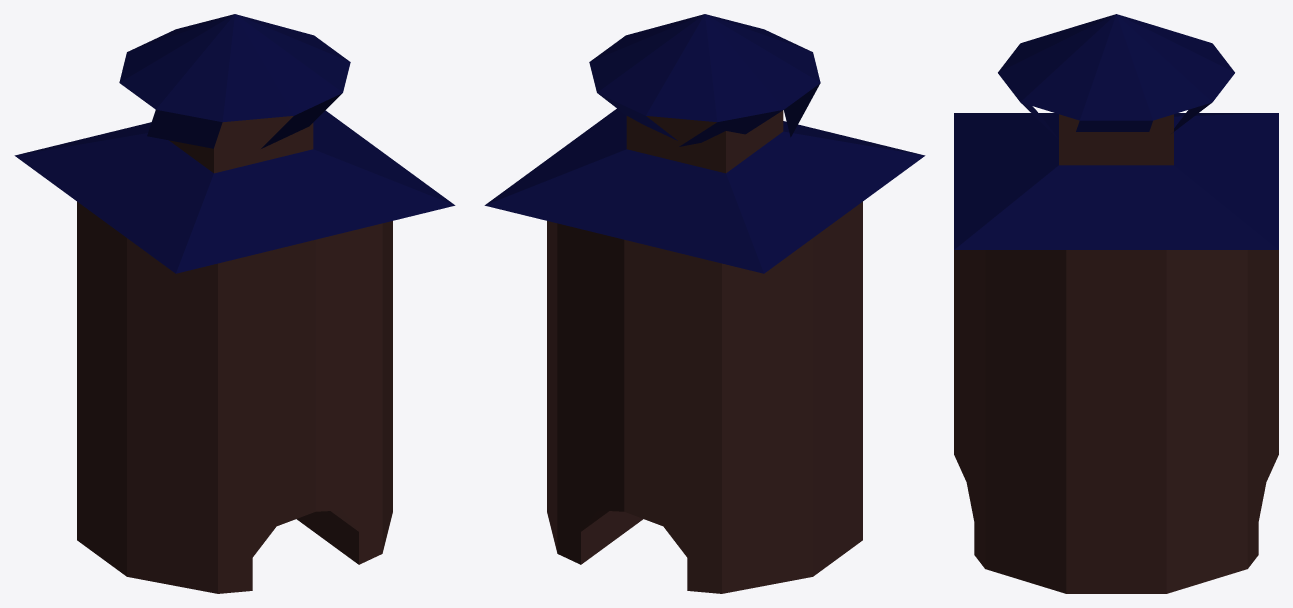
Rendered from Generator.fbx.
3 renders of one model, left to right at view 1: azimuth 30°, elevation 25°; view 2: azimuth 150°, elevation 25°; view 3: azimuth 270°, elevation 25°, orthographic.
Parts seen in each view (by area): view 1: Cylinder, Cube.001, Cube.002; view 2: Cylinder, Cube.001, Cube.002; view 3: Cylinder, Cube.001, Cube.002.
Part boxes in pixels (bbox=[...]): Cylinder: bbox=[77, 201, 392, 593]; Cube.001: bbox=[14, 110, 455, 273]; Cube.002: bbox=[119, 14, 350, 148]; Cylinder: bbox=[547, 201, 862, 593]; Cube.001: bbox=[484, 108, 925, 273]; Cube.002: bbox=[589, 14, 820, 146]; Cylinder: bbox=[954, 250, 1278, 593]; Cube.001: bbox=[954, 113, 1278, 249]; Cube.002: bbox=[998, 14, 1234, 138].
Size of the model in its own units: 100 by 175 by 100.
